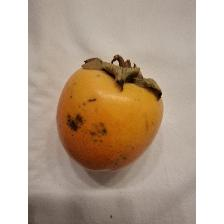Kaki: (54, 50, 166, 170)
